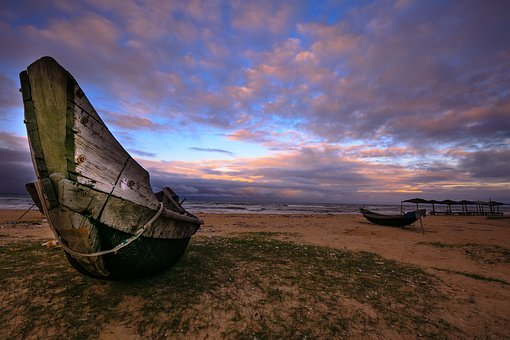sky: (13, 5, 504, 206)
